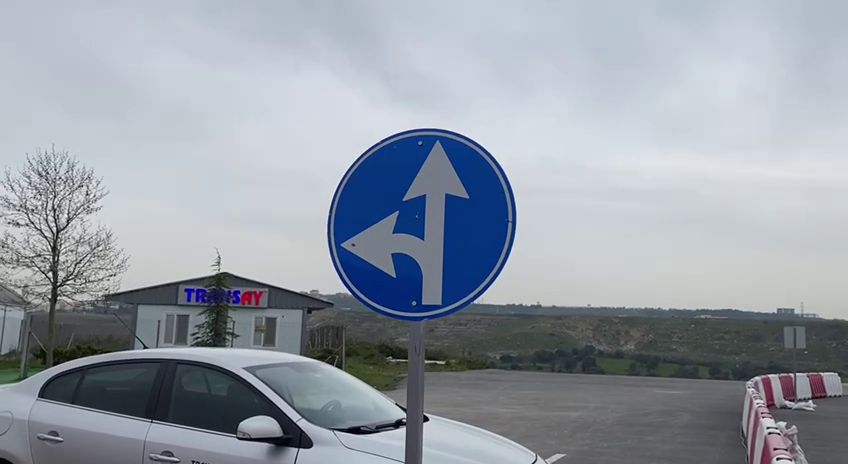forwardAndLeft: (323, 122, 525, 325)
